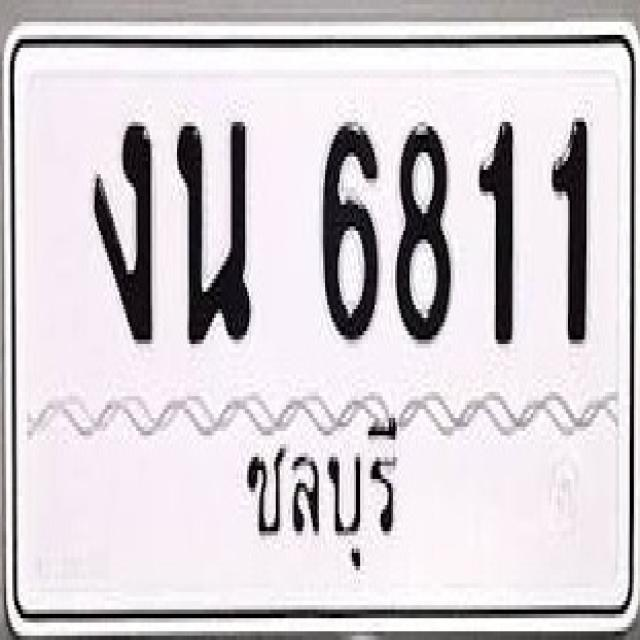license_plate: (4, 18, 640, 632)
